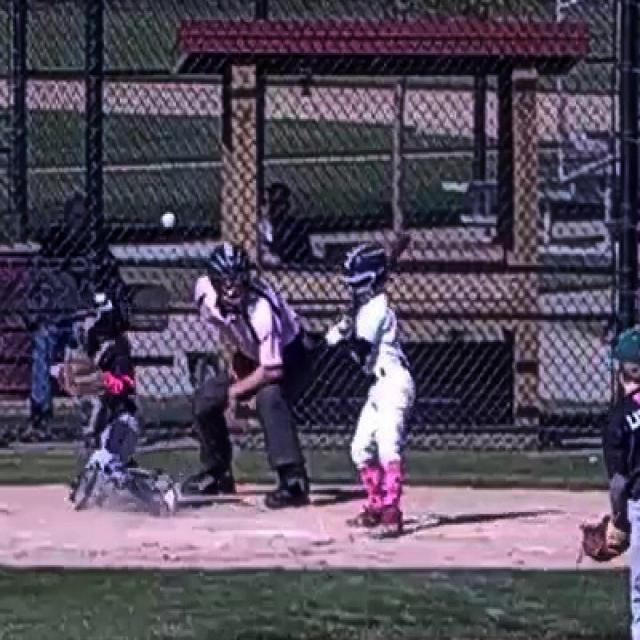baseball: (161, 212, 175, 228)
